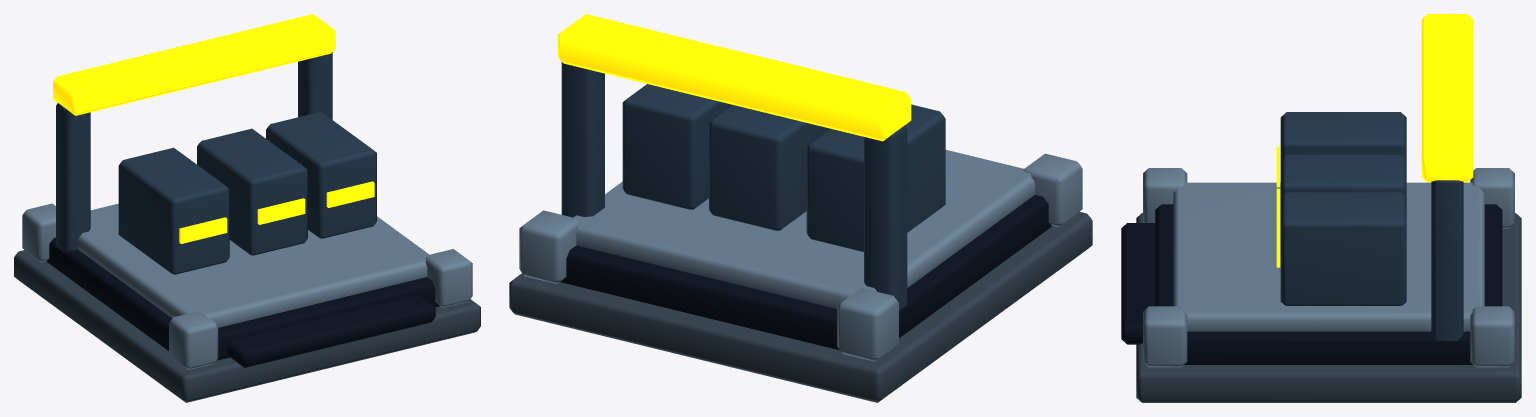
Rendered from depot.glb.
3 renders of one model, left to right at view 1: azimuth 30°, elevation 25°; view 2: azimuth 150°, elevation 25°; view 3: azimuth 270°, elevation 25°, orthographic. The views are drawn at different scales.
Parts seen in each view (by area): view 1: Loading deck, Foundation, Cargo hoist, Salvage crate, Salvage crate.001, Undercarriage, Salvage crate.002, Loading ramp, Dock post, Corner lock.001, Corner lock.003, Dock post.001 (+4 smaller); view 2: Foundation, Loading deck, Cargo hoist, Undercarriage, Salvage crate.001, Salvage crate, Salvage crate.002, Dock post, Dock post.001, Corner lock, Corner lock.002, Corner lock.001; view 3: Loading deck, Foundation, Salvage crate.002, Undercarriage, Cargo hoist, Salvage crate, Dock post.001, Salvage crate.001, Loading ramp, Corner lock.002, Corner lock.003, Corner lock (+1 smaller).
Part boxes in pixels (left/top/right/bottom): Loading deck: left=78, top=203, right=429, bottom=327; Foundation: left=14, top=250, right=480, bottom=402; Cargo hoist: left=53, top=14, right=335, bottom=115; Salvage crate: left=118, top=147, right=229, bottom=274; Salvage crate.001: left=197, top=128, right=307, bottom=255; Undercarriage: left=46, top=237, right=439, bottom=360; Salvage crate.002: left=266, top=112, right=376, bottom=238; Loading ramp: left=227, top=295, right=435, bottom=367; Dock post: left=56, top=103, right=90, bottom=253; Corner lock.001: left=169, top=311, right=218, bottom=369; Corner lock.003: left=425, top=249, right=472, bottom=307; Dock post.001: left=298, top=52, right=332, bottom=119; Foundation: left=509, top=211, right=1092, bottom=402; Loading deck: left=573, top=150, right=1034, bottom=308; Cargo hoist: left=557, top=14, right=911, bottom=141; Undercarriage: left=560, top=195, right=1052, bottom=350; Salvage crate.001: left=709, top=105, right=830, bottom=230; Salvage crate: left=806, top=104, right=945, bottom=251; Salvage crate.002: left=622, top=84, right=732, bottom=209; Dock post: left=864, top=125, right=907, bottom=310; Dock post.001: left=561, top=62, right=604, bottom=217; Corner lock: left=837, top=288, right=898, bottom=361; Corner lock.002: left=519, top=210, right=578, bottom=283; Corner lock.001: left=1023, top=153, right=1082, bottom=227; Loading deck: left=1173, top=182, right=1484, bottom=331; Foundation: left=1136, top=213, right=1521, bottom=402; Salvage crate.002: left=1280, top=192, right=1406, bottom=305; Undercarriage: left=1155, top=204, right=1502, bottom=364; Cargo hoist: left=1421, top=14, right=1473, bottom=182; Salvage crate: left=1280, top=112, right=1406, bottom=159; Dock post.001: left=1431, top=180, right=1463, bottom=340; Salvage crate.001: left=1280, top=154, right=1406, bottom=197; Loading ramp: left=1121, top=223, right=1155, bottom=344; Corner lock.002: left=1470, top=306, right=1514, bottom=367; Corner lock.003: left=1143, top=306, right=1187, bottom=367; Corner lock: left=1470, top=168, right=1514, bottom=228.
Size of the model in its own units: 2.6 by 1.79 by 2.7.
